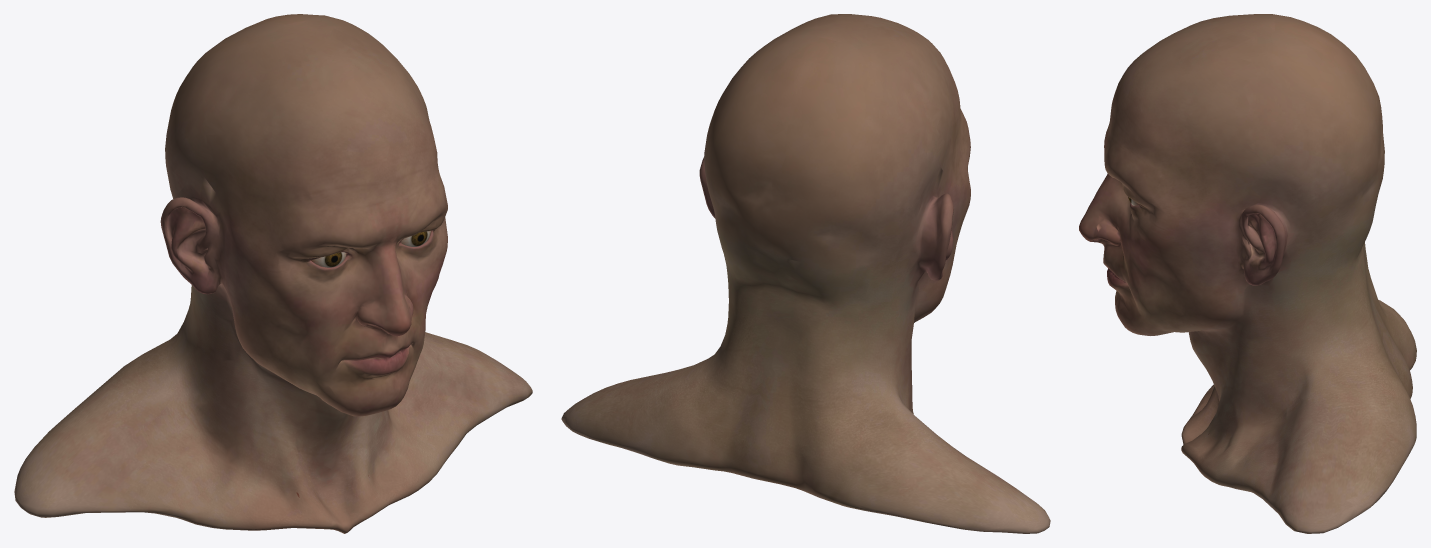
File: head-anatomy.glb
The picture shows the model from 3 angles, left to right: view 1: azimuth 30°, elevation 25°; view 2: azimuth 150°, elevation 25°; view 3: azimuth 270°, elevation 25°; orthographic projection. The views are drawn at different scales.
Visible parts, largest first — view 1: head_skin_full; view 2: head_skin_full; view 3: head_skin_full.
Boxes of the visible parts, box(x1,y1,x2,y2) form: head_skin_full: box(14, 14, 532, 533); head_skin_full: box(561, 14, 1050, 533); head_skin_full: box(1079, 14, 1416, 533).
Size of the model in its own units: 2.83 by 2.55 by 1.81.
Materials: 6 (6 with a texture image).
